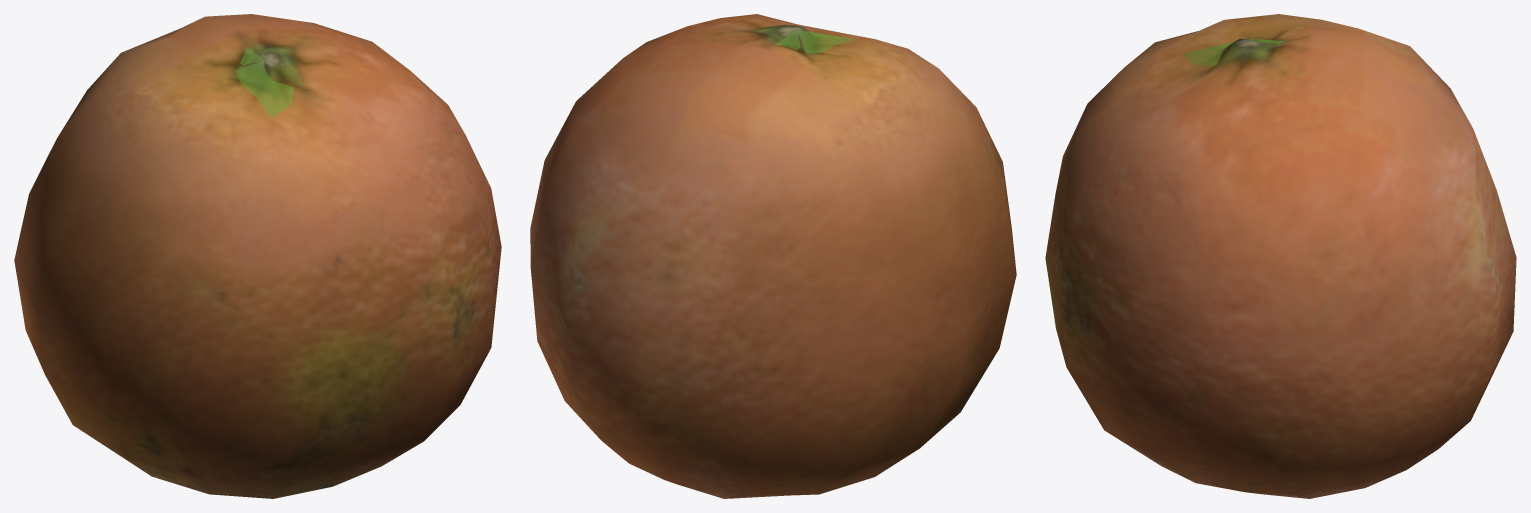
Rendered from pg_Tangerine_04.fbx.
3 views of the same model, side by side, from view 1: azimuth 30°, elevation 25°; view 2: azimuth 150°, elevation 25°; view 3: azimuth 270°, elevation 25° (orthographic).
Visible parts, largest first — view 1: pg_Tangerine_04_a_LOD0, pg_Tangerine_04_a_col; view 2: pg_Tangerine_04_a_LOD0, pg_Tangerine_04_a_col; view 3: pg_Tangerine_04_a_LOD0, pg_Tangerine_04_a_col.
Boxes of the visible parts, x1,y1,x2,y2 form: pg_Tangerine_04_a_LOD0: (14, 14, 501, 498); pg_Tangerine_04_a_col: (235, 48, 294, 117); pg_Tangerine_04_a_LOD0: (530, 14, 1016, 498); pg_Tangerine_04_a_col: (777, 29, 854, 53); pg_Tangerine_04_a_LOD0: (1045, 14, 1516, 498); pg_Tangerine_04_a_col: (1182, 39, 1284, 65).
Size of what is drawn, in the model's own units: 5.99 by 5.73 by 5.83.
2 materials, 1 textured.
